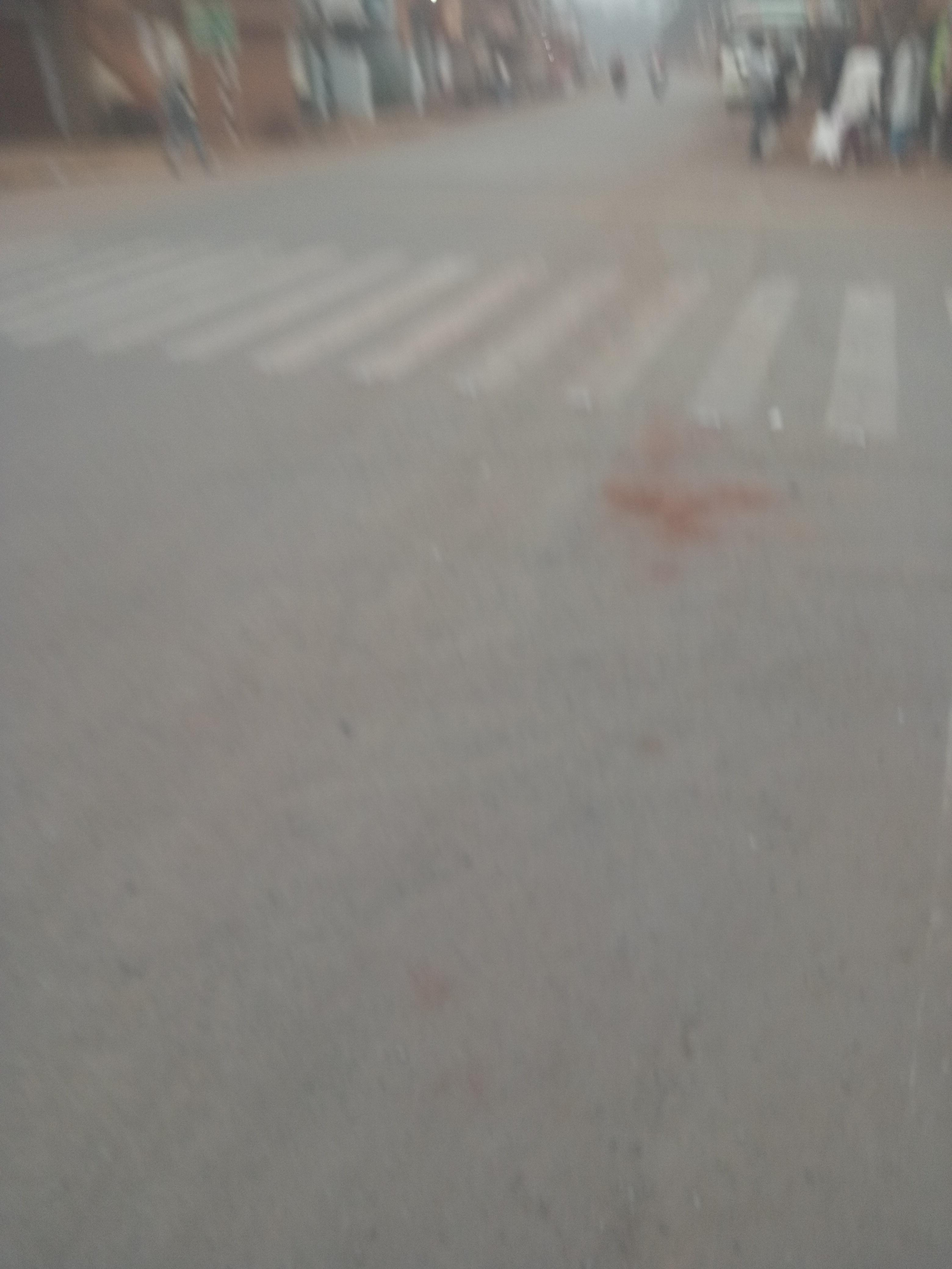crosswalk: (0, 245, 893, 471)
